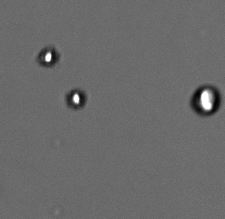Living Cell: (190, 82, 221, 117), (35, 44, 62, 68), (63, 87, 89, 110)
